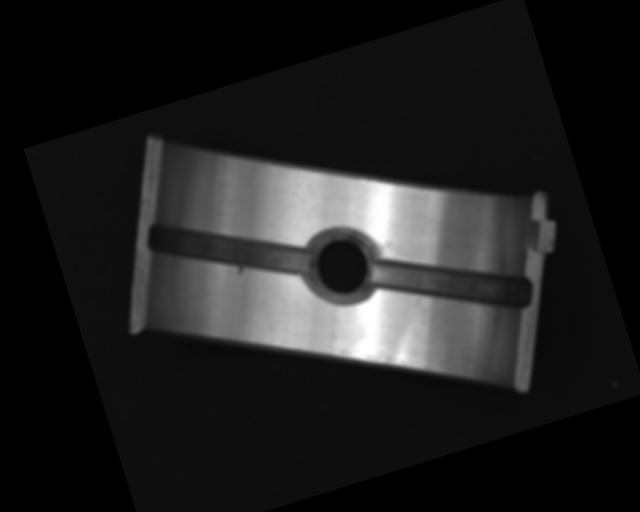bruise: (234, 264, 248, 278)
gap: (144, 184, 312, 315), (367, 221, 535, 348)
hole: (299, 223, 384, 312)
